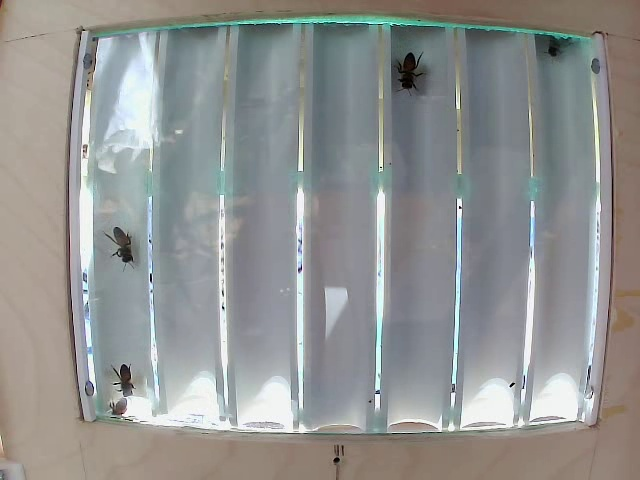bee: (111, 351, 154, 400), (394, 37, 421, 94), (114, 225, 144, 271)
